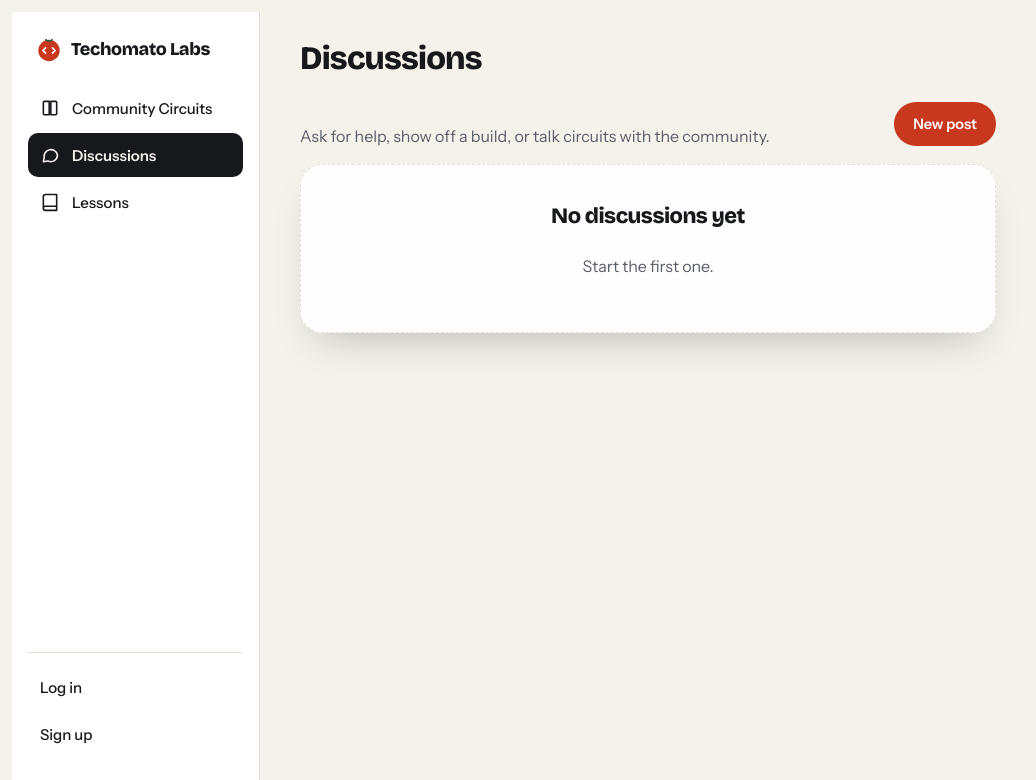
Test: DiscussionsPage › sends a signed-out visitor to log in before posting
Click the button "New post". click: (945, 124)
box: [894,102,996,146]
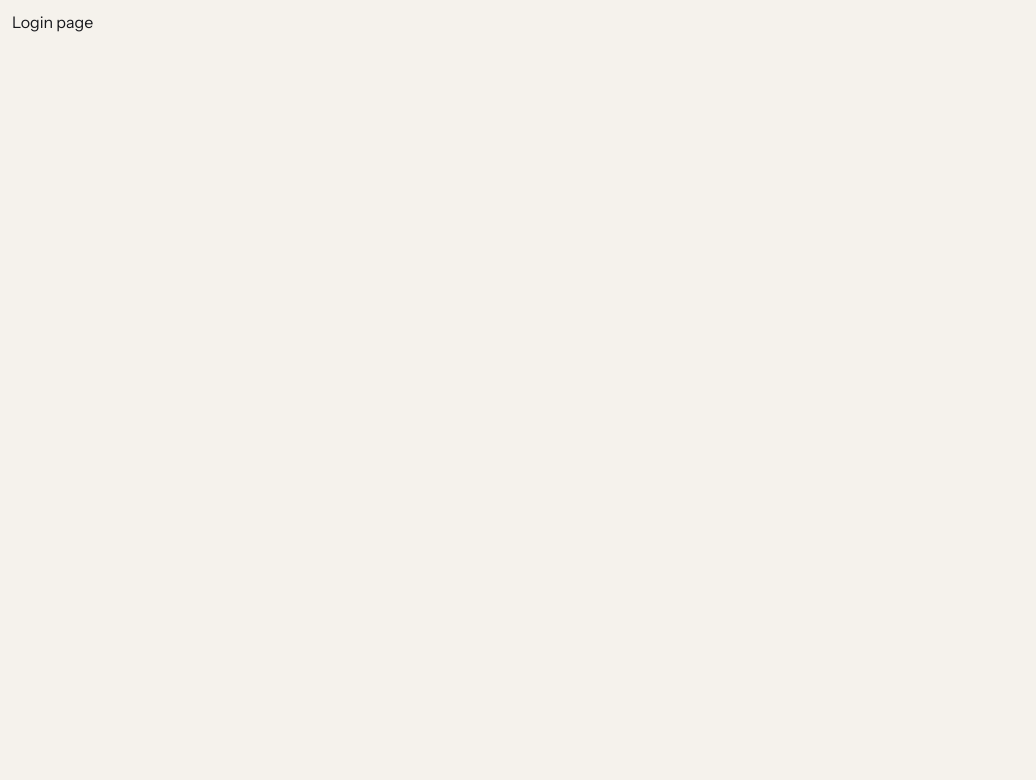
Now the text "Login page" is shown, box [12,12,93,32]
